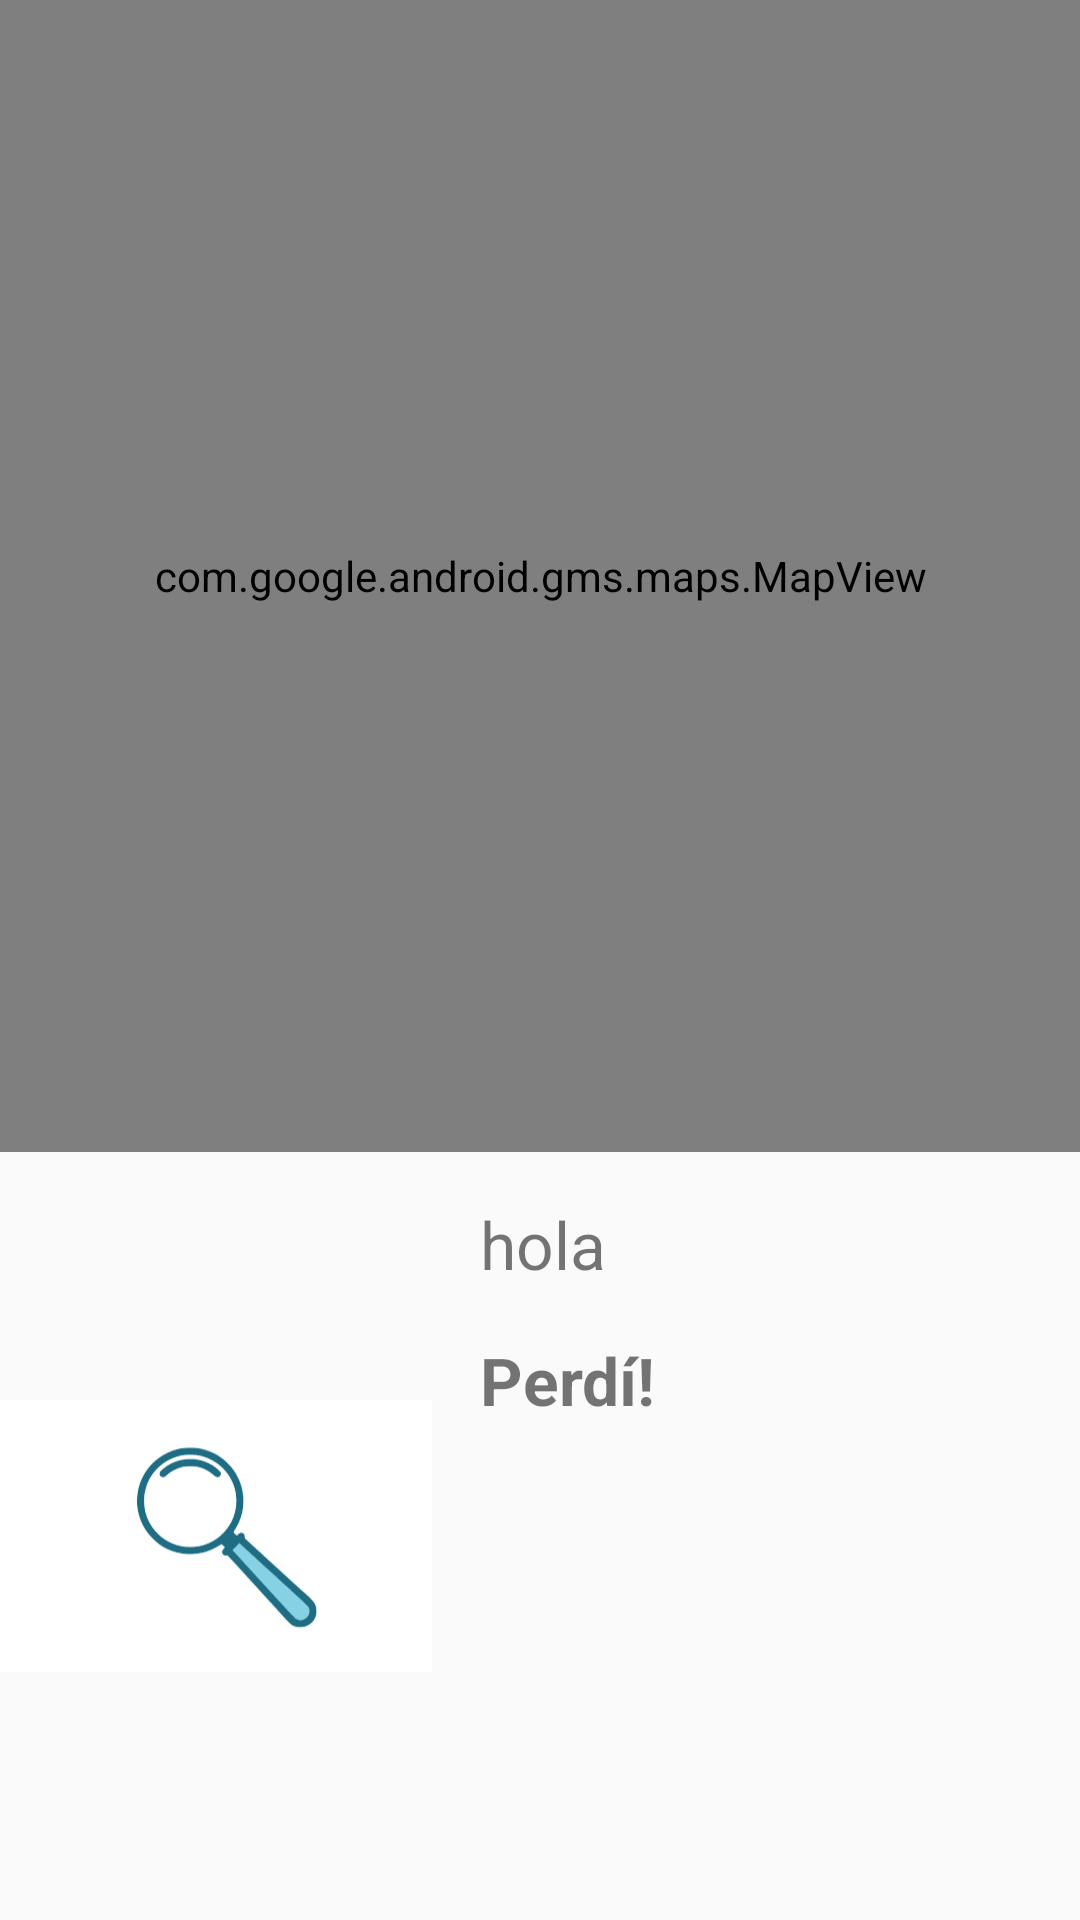

Icons on this 1080 × 1920 Android screen, each with the point to tap as (x=x, y=y):
magnifying glass: (x=227, y=1537)
